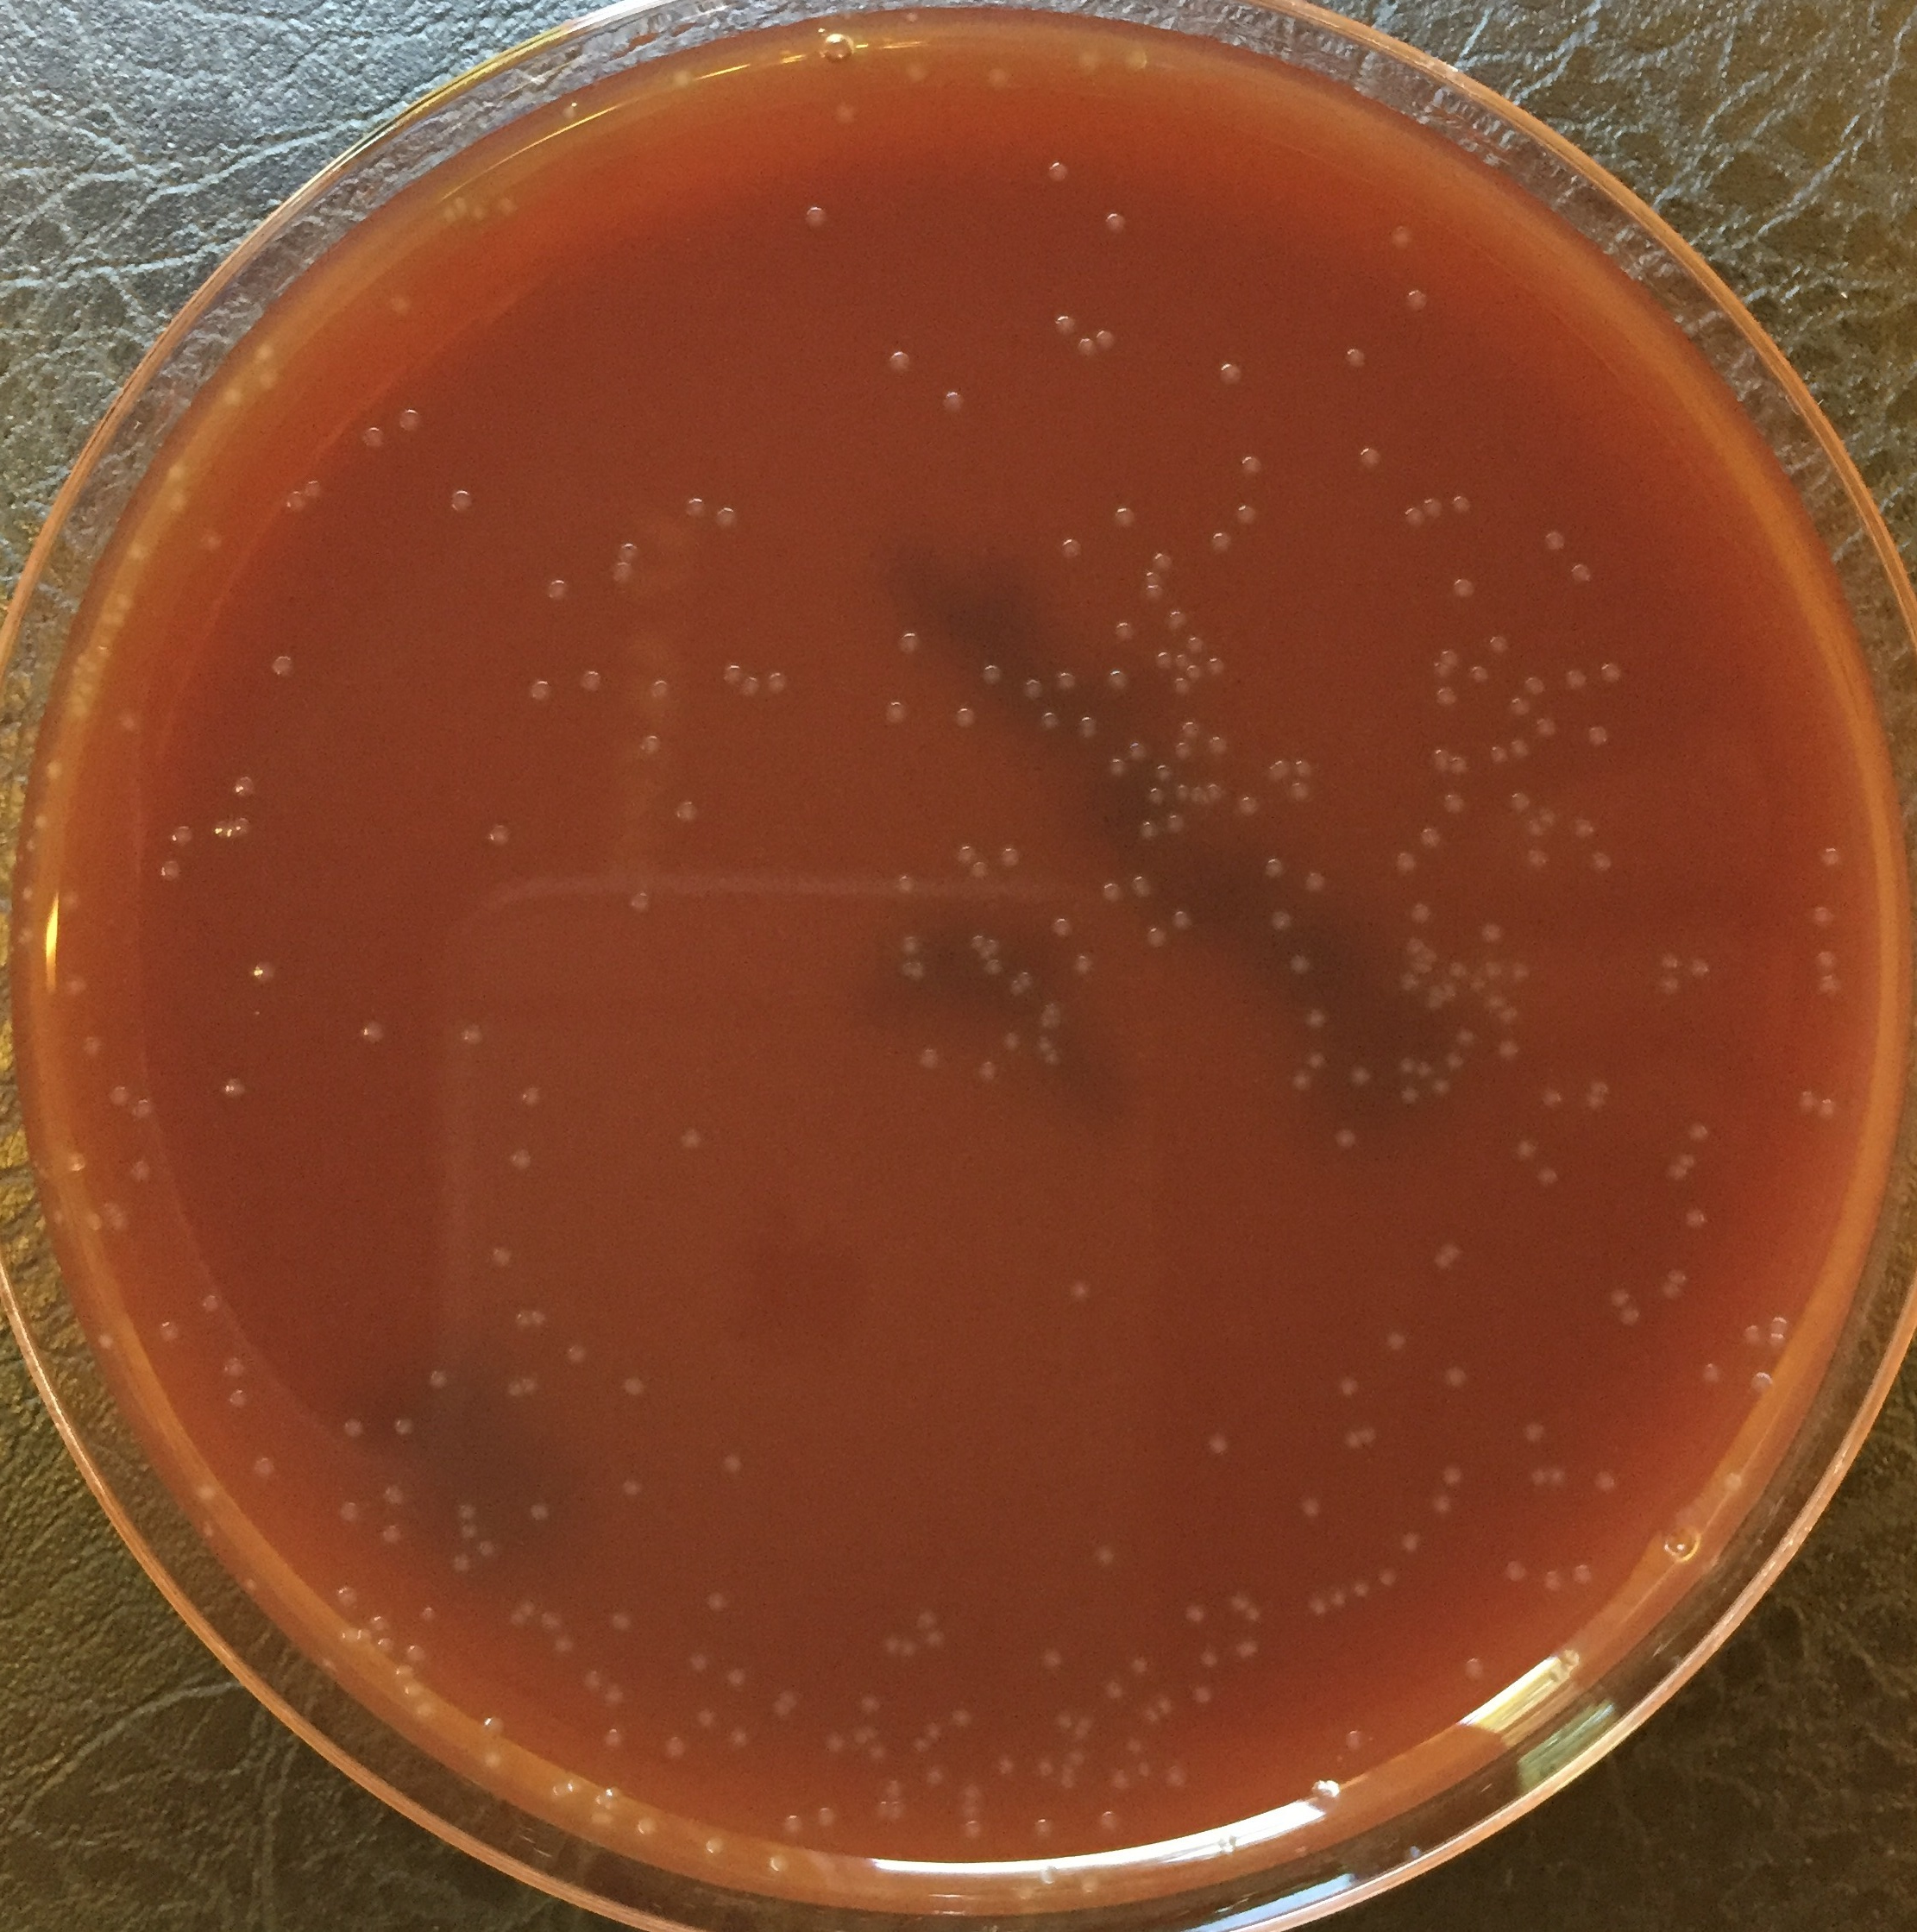sp10: (1057, 1265, 1108, 1308), (1292, 1488, 1334, 1537), (1304, 1774, 1352, 1816), (1440, 1352, 1482, 1400), (667, 1115, 714, 1156), (1115, 40, 1159, 81), (1510, 1414, 1552, 1453), (894, 56, 937, 93), (1334, 1723, 1378, 1760), (1812, 841, 1856, 878), (790, 200, 830, 239), (932, 383, 973, 422), (1375, 1323, 1415, 1361), (1201, 1421, 1232, 1470), (1454, 1649, 1497, 1684), (1183, 1674, 1222, 1712), (279, 481, 314, 523), (51, 887, 93, 922), (555, 95, 588, 139), (823, 93, 857, 137), (481, 815, 518, 854), (665, 794, 704, 831), (520, 1496, 556, 1535), (697, 1586, 734, 1625), (664, 58, 699, 98), (1067, 46, 1102, 86), (246, 957, 286, 992), (1497, 1556, 1533, 1597), (1596, 657, 1636, 692), (190, 523, 232, 557), (1087, 1535, 1118, 1579), (1401, 285, 1438, 321), (1327, 1366, 1364, 1403), (560, 1335, 599, 1370), (1585, 1465, 1624, 1500), (876, 346, 916, 379), (386, 1407, 420, 1447), (1396, 1523, 1429, 1563), (978, 56, 1009, 98), (1387, 213, 1418, 255), (439, 485, 476, 520), (634, 729, 669, 766), (32, 753, 68, 789), (56, 1143, 93, 1179), (1343, 1419, 1378, 1456), (890, 627, 927, 662), (212, 379, 251, 413), (355, 423, 395, 455), (713, 502, 744, 543), (356, 1013, 388, 1054), (495, 183, 525, 225), (1232, 783, 1262, 825), (162, 487, 197, 522), (714, 1449, 750, 1484), (1094, 1672, 1129, 1707), (1162, 1760, 1197, 1795), (644, 671, 678, 708), (1806, 898, 1843, 931), (1536, 1164, 1569, 1201), (593, 1725, 632, 1756), (118, 706, 147, 746), (379, 285, 413, 320), (390, 402, 425, 436), (1211, 355, 1245, 390), (485, 1236, 518, 1272), (697, 1827, 730, 1862), (1569, 1556, 1605, 1590), (1301, 999, 1334, 1034), (1745, 1370, 1778, 1405), (1561, 662, 1592, 699), (1538, 1565, 1568, 1604), (1436, 1458, 1469, 1491), (1715, 1465, 1748, 1498), (1234, 448, 1267, 481), (1524, 847, 1557, 880), (1037, 153, 1073, 184), (723, 1660, 758, 1691), (1353, 443, 1385, 478), (1034, 998, 1069, 1029), (1506, 955, 1538, 991), (762, 660, 792, 697), (58, 971, 95, 1001), (1476, 917, 1513, 947), (616, 1372, 655, 1400), (100, 1078, 133, 1110), (128, 1096, 162, 1128), (658, 1730, 690, 1763), (1092, 876, 1125, 908), (151, 857, 186, 887), (606, 1604, 635, 1639), (1180, 1595, 1210, 1630), (1427, 1489, 1457, 1525), (1073, 710, 1102, 745), (1678, 1200, 1708, 1235), (255, 360, 283, 397), (334, 1628, 370, 1656), (406, 1695, 442, 1723), (1127, 1644, 1155, 1681), (267, 648, 293, 687), (516, 1082, 548, 1114), (504, 1143, 535, 1175), (613, 1474, 644, 1505), (376, 1517, 407, 1549), (762, 1846, 793, 1878), (1074, 1872, 1106, 1904), (1810, 977, 1842, 1008), (1069, 335, 1102, 365), (9, 920, 39, 954), (219, 1071, 249, 1105), (337, 1412, 367, 1445), (960, 1777, 990, 1811), (1071, 1712, 1101, 1746), (456, 1019, 485, 1054), (197, 1284, 225, 1319), (771, 1809, 806, 1837), (1580, 720, 1615, 748), (604, 1674, 628, 1712), (1339, 339, 1369, 371), (609, 560, 639, 592), (126, 1156, 156, 1187), (223, 1382, 253, 1414), (946, 1702, 976, 1734), (878, 697, 909, 727), (978, 657, 1008, 688), (1109, 502, 1139, 534), (1231, 497, 1260, 529), (1108, 618, 1139, 648), (1448, 483, 1478, 515), (1283, 948, 1315, 978), (1448, 1020, 1478, 1052), (465, 198, 493, 232), (681, 490, 709, 523), (153, 1314, 181, 1347), (1531, 715, 1564, 743), (1095, 321, 1122, 357), (1039, 1642, 1066, 1677), (1806, 948, 1842, 975), (579, 660, 604, 697), (165, 820, 195, 850), (423, 1365, 453, 1395), (727, 1727, 757, 1756), (853, 1688, 883, 1718), (923, 1628, 953, 1658), (1585, 850, 1615, 880), (230, 771, 258, 803), (579, 1665, 607, 1697), (477, 1711, 509, 1739), (958, 1818, 987, 1849), (1032, 1860, 1064, 1888), (1264, 908, 1296, 936), (160, 455, 193, 481), (627, 885, 653, 919), (381, 1479, 407, 1512), (1059, 532, 1085, 566), (974, 1056, 1001, 1089), (116, 537, 151, 562), (992, 1746, 1016, 1781), (997, 840, 1022, 875), (1817, 1096, 1842, 1131), (249, 1445, 277, 1475), (476, 1749, 506, 1777), (1376, 1563, 1404, 1593), (1069, 950, 1099, 978), (1415, 822, 1445, 850), (1540, 527, 1568, 557), (528, 673, 555, 704), (716, 659, 743, 690), (216, 1351, 248, 1377), (683, 1646, 709, 1677), (334, 1493, 360, 1525), (634, 1809, 660, 1841), (1329, 1128, 1361, 1154), (1566, 559, 1592, 590), (1483, 634, 1515, 660), (451, 1517, 485, 1542), (1526, 1461, 1547, 1500), (1032, 1811, 1055, 1846), (955, 699, 978, 734), (90, 1324, 118, 1352), (688, 1700, 716, 1728), (920, 1765, 948, 1793), (1132, 1756, 1160, 1784), (1571, 813, 1599, 841), (1095, 1807, 1125, 1834), (1052, 666, 1078, 696), (1127, 871, 1153, 901), (1167, 905, 1197, 931), (1262, 752, 1289, 782), (915, 1042, 941, 1071), (1482, 739, 1508, 769), (1601, 1282, 1631, 1308), (1104, 205, 1129, 237), (544, 574, 569, 606), (109, 1207, 133, 1238), (449, 1547, 474, 1579), (542, 1779, 567, 1811), (813, 1802, 837, 1834), (815, 1730, 846, 1755), (1057, 1767, 1081, 1799), (1192, 1646, 1224, 1670), (1324, 1581, 1348, 1612), (1039, 708, 1064, 739), (1143, 924, 1167, 955), (1260, 852, 1285, 883), (892, 931, 923, 955), (1792, 1087, 1817, 1119), (1511, 1133, 1536, 1164), (1492, 1038, 1524, 1063), (249, 334, 276, 362), (79, 1031, 105, 1059), (553, 1635, 579, 1663), (388, 1660, 416, 1686), (778, 1684, 806, 1711), (865, 1734, 892, 1762), (908, 1735, 936, 1762), (1109, 1765, 1136, 1793), (1236, 1637, 1262, 1665), (1206, 527, 1232, 555), (1018, 674, 1045, 703), (1301, 868, 1329, 894), (1162, 813, 1188, 841), (1434, 687, 1461, 715), (1506, 738, 1533, 766), (1030, 1758, 1055, 1788), (1164, 606, 1188, 636), (967, 857, 992, 887), (1124, 736, 1153, 761), (1425, 1075, 1455, 1099), (1522, 674, 1552, 699), (81, 1207, 104, 1238), (1064, 1746, 1097, 1767), (541, 1611, 567, 1637), (1108, 667, 1134, 694), (1346, 1066, 1373, 1092), (1050, 307, 1074, 335), (28, 808, 56, 833), (476, 1535, 500, 1563), (330, 1584, 358, 1609), (1348, 1577, 1373, 1605), (1548, 1458, 1573, 1486), (1048, 913, 1073, 941), (1206, 653, 1234, 678), (1206, 732, 1231, 761), (1285, 780, 1310, 808), (1538, 1089, 1566, 1114), (1766, 1308, 1794, 1333), (887, 1799, 909, 1828), (1657, 973, 1680, 1003), (1738, 1321, 1761, 1351), (1403, 502, 1422, 537), (899, 1635, 920, 1667), (1422, 488, 1443, 520), (614, 537, 641, 562), (455, 1495, 481, 1519), (1104, 755, 1129, 782), (1448, 752, 1473, 778), (1506, 694, 1533, 718), (1654, 950, 1680, 975), (1619, 1307, 1645, 1331), (1689, 952, 1708, 985), (736, 674, 758, 703), (190, 1481, 218, 1503), (521, 1372, 544, 1400), (1303, 1597, 1331, 1619), (1454, 571, 1476, 599), (894, 868, 916, 896), (999, 1031, 1022, 1059), (304, 472, 325, 502), (1582, 1091, 1612, 1112), (235, 811, 255, 843), (1701, 1356, 1720, 1388), (114, 588, 139, 613), (1046, 1704, 1071, 1728), (1441, 789, 1466, 813), (1306, 1047, 1331, 1071), (1687, 1121, 1712, 1145), (402, 1640, 428, 1663), (913, 1604, 936, 1630), (1124, 1734, 1150, 1756), (1153, 544, 1176, 571), (1152, 759, 1174, 785), (449, 191, 469, 221), (67, 708, 97, 727), (530, 1298, 549, 1328), (909, 959, 929, 989), (1427, 741, 1447, 771), (1661, 1265, 1691, 1284), (883, 1776, 908, 1799), (1187, 631, 1210, 655), (1292, 757, 1317, 780), (1397, 1087, 1422, 1110), (1397, 968, 1420, 992), (1524, 817, 1547, 841), (1504, 789, 1527, 813), (370, 1633, 397, 1654), (1763, 1331, 1789, 1352), (516, 1595, 544, 1614), (1659, 1284, 1687, 1303), (1471, 662, 1489, 692), (985, 955, 1008, 978), (1392, 854, 1415, 876), (509, 1303, 530, 1328), (1225, 1588, 1246, 1612), (1290, 1073, 1311, 1098), (504, 1377, 523, 1403), (1141, 1709, 1160, 1735), (955, 838, 974, 864), (1181, 713, 1201, 739), (1497, 1008, 1524, 1027), (223, 818, 239, 850), (1583, 1077, 1615, 1092), (400, 1681, 428, 1698), (881, 1628, 899, 1656), (1245, 1607, 1273, 1625), (418, 1602, 441, 1623), (1173, 741, 1194, 764), (1413, 959, 1436, 980), (77, 683, 102, 703), (1139, 818, 1159, 843), (1173, 780, 1192, 804), (1438, 645, 1462, 664), (1394, 1052, 1413, 1077), (1406, 901, 1431, 920), (1422, 987, 1441, 1012), (1540, 801, 1559, 825), (437, 204, 455, 230), (922, 1719, 943, 1741), (1169, 652, 1190, 673), (1482, 959, 1503, 980), (93, 609, 112, 632), (16, 885, 39, 905), (507, 1611, 527, 1633), (1153, 1691, 1176, 1711), (1173, 674, 1192, 697), (1034, 1034, 1053, 1057), (1399, 936, 1422, 955), (1466, 971, 1485, 994), (98, 1193, 116, 1217), (851, 1723, 869, 1748), (1152, 648, 1169, 673), (1046, 1049, 1064, 1073), (1413, 1056, 1431, 1080), (1441, 1052, 1466, 1070), (1673, 1149, 1698, 1166), (1664, 1164, 1689, 1182), (1483, 991, 1508, 1008), (111, 611, 126, 638), (95, 641, 114, 662), (1447, 957, 1466, 978), (607, 1777, 625, 1800), (864, 1721, 887, 1739), (1143, 583, 1166, 601), (1432, 659, 1450, 681), (209, 813, 223, 841), (872, 1797, 887, 1825), (21, 836, 40, 855), (241, 1575, 260, 1595), (565, 1777, 585, 1797), (72, 650, 90, 671), (1210, 780, 1227, 801), (1445, 1240, 1462, 1261), (1445, 982, 1462, 1003), (1145, 569, 1164, 587), (1432, 1252, 1450, 1272), (1422, 943, 1441, 961), (590, 1791, 606, 1813), (771, 1702, 786, 1723), (974, 943, 990, 964), (72, 664, 86, 687), (1009, 978, 1023, 1001), (1150, 785, 1164, 808), (895, 961, 913, 978), (964, 927, 981, 945), (1018, 966, 1036, 984), (1187, 664, 1204, 681), (985, 934, 1004, 950), (365, 1618, 390, 1628), (1195, 783, 1206, 806)
